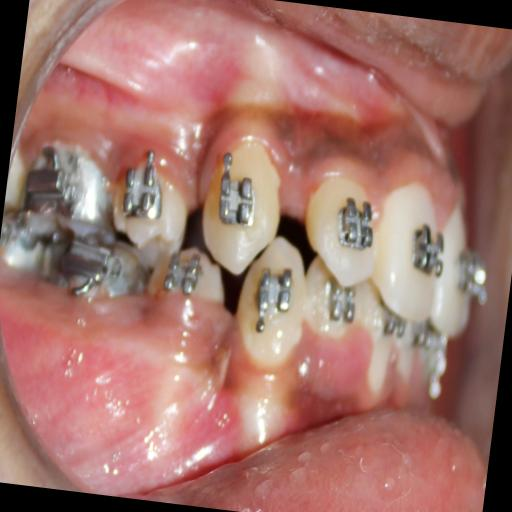correct_brace: (104, 153, 192, 273), (408, 212, 451, 288), (334, 194, 378, 252), (212, 179, 261, 231), (248, 266, 296, 318)
incorrect_brace: (298, 169, 382, 286), (113, 163, 169, 227)
